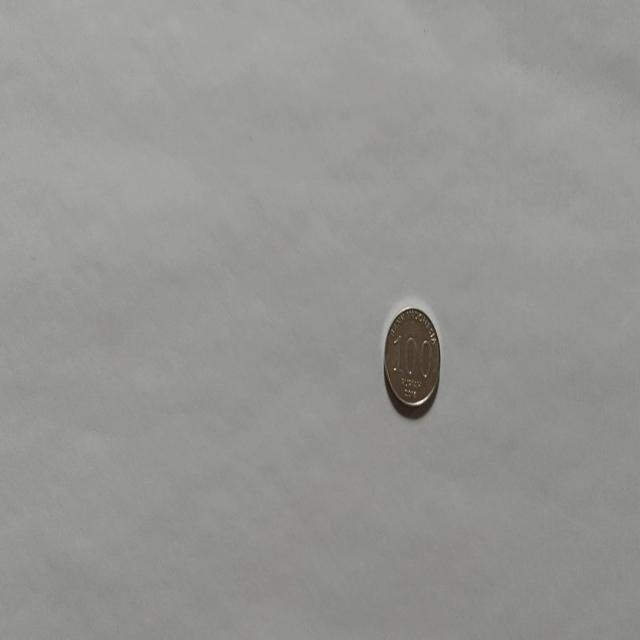seratus rupiah: (383, 304, 441, 412)
